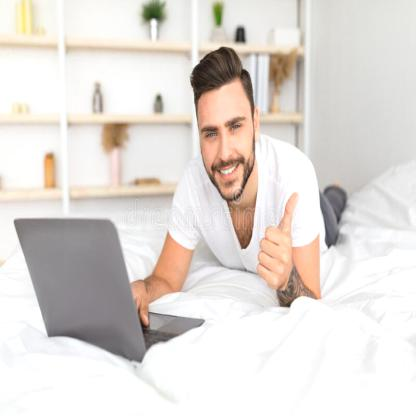Thumbs up: (242, 180, 299, 286)
